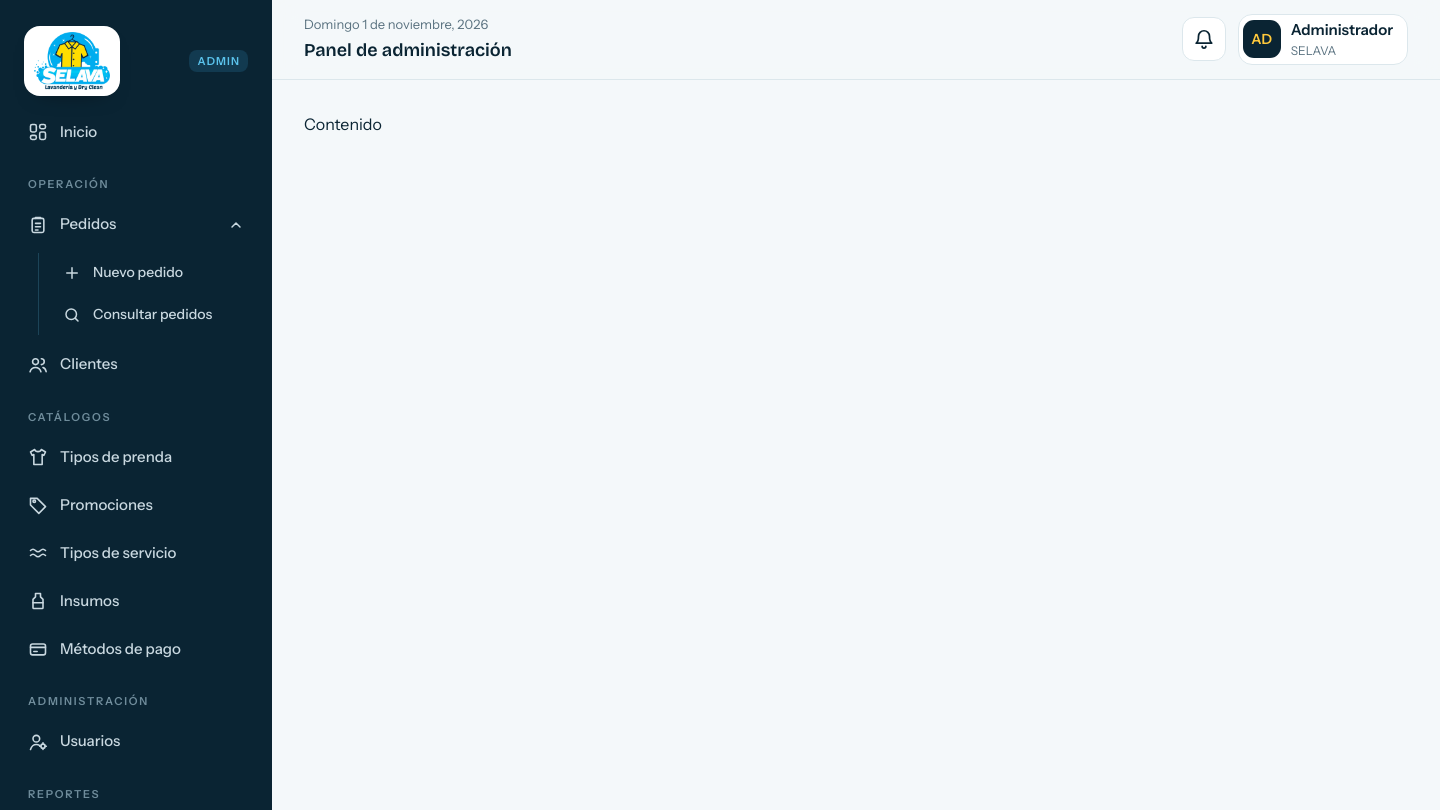
Layout › ordena los módulos y despliega las dos acciones al presionar Pedidos
The width and height of the screenshot is (1440, 810).
Expected: the headings read "Operación", "Catálogos", "Administración", "Reportes", in this order, [28, 177, 109, 191]; [28, 410, 111, 424]; [28, 694, 149, 708]; [28, 786, 100, 800]
Click the button "Pedidos" at (136, 224), box [16, 202, 256, 246]
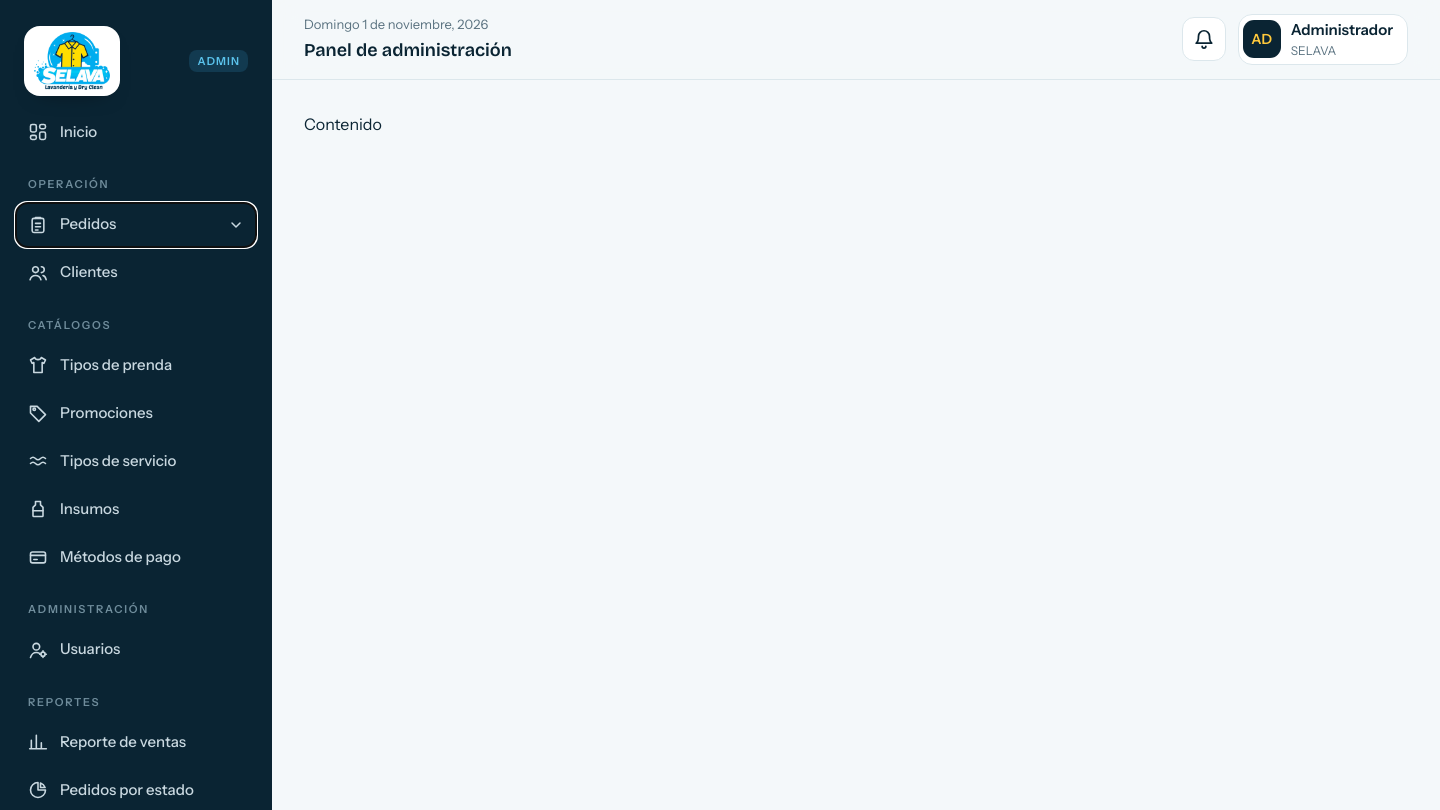
Now the button "Pedidos" is collapsed
Now the link "Nuevo pedido" is gone
Click the button "Pedidos" at (136, 224), box [16, 202, 256, 246]
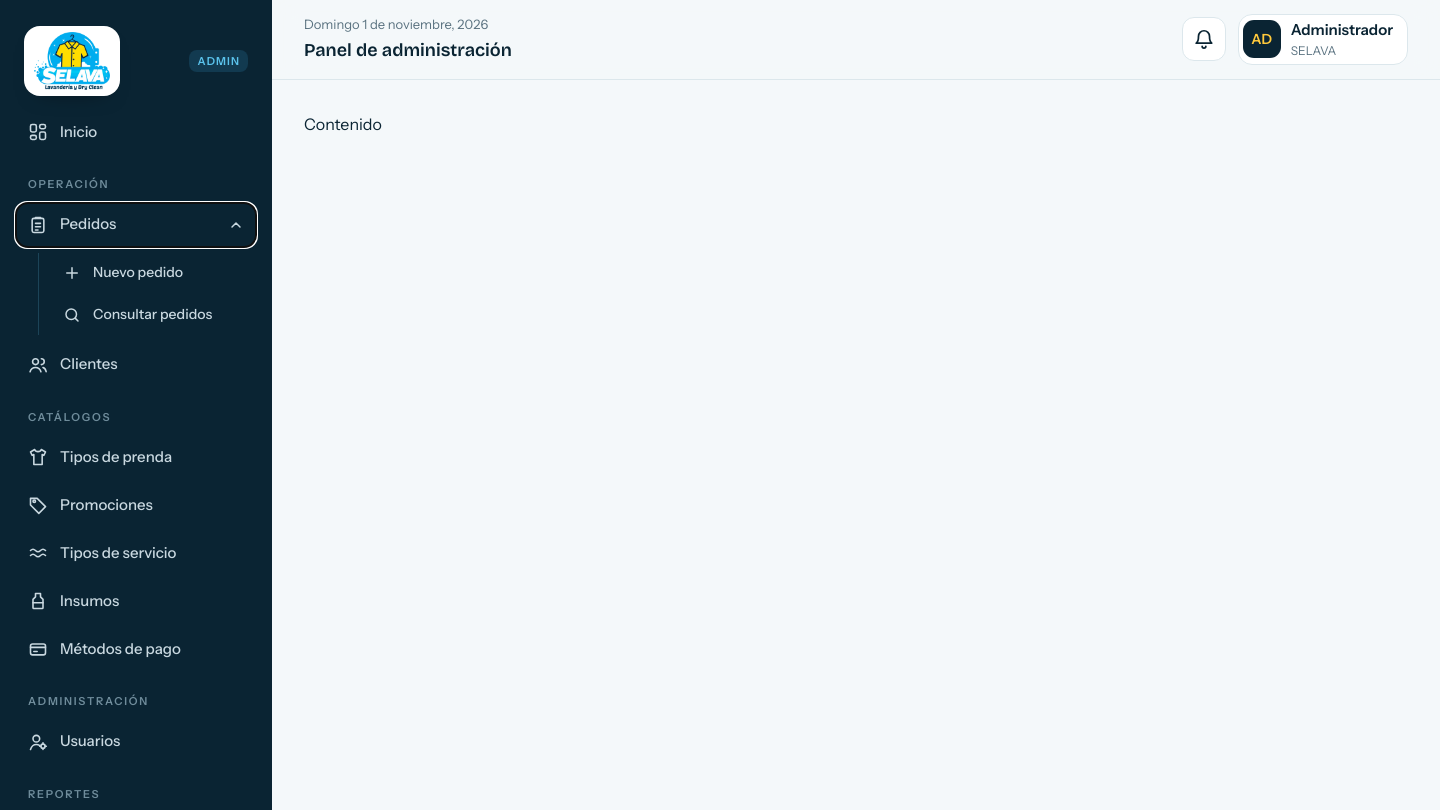
Expected: the element "Pedidos" is shown, [16, 202, 256, 338]
Now the button "Pedidos" is expanded, box [16, 202, 256, 246]
Now the links read "Nuevo pedido", "Consultar pedidos", "Clientes", in this order, box [63, 263, 183, 282]; [63, 305, 212, 324]; [28, 354, 117, 375]
